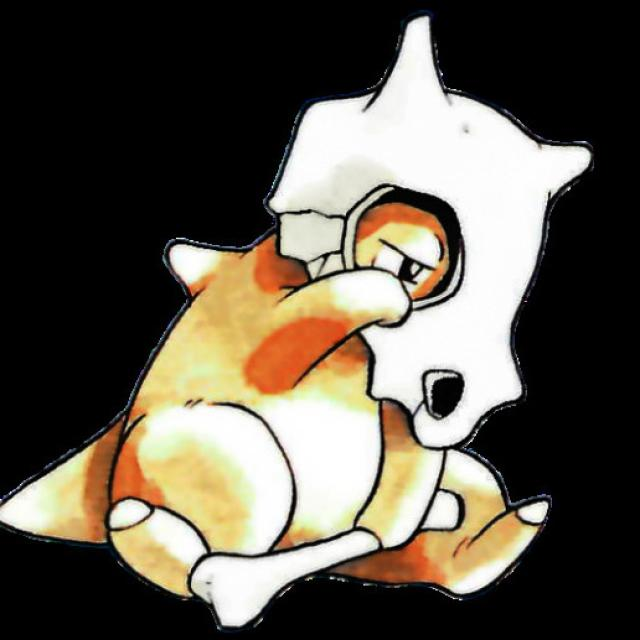Cubone: (112, 25, 600, 631)
